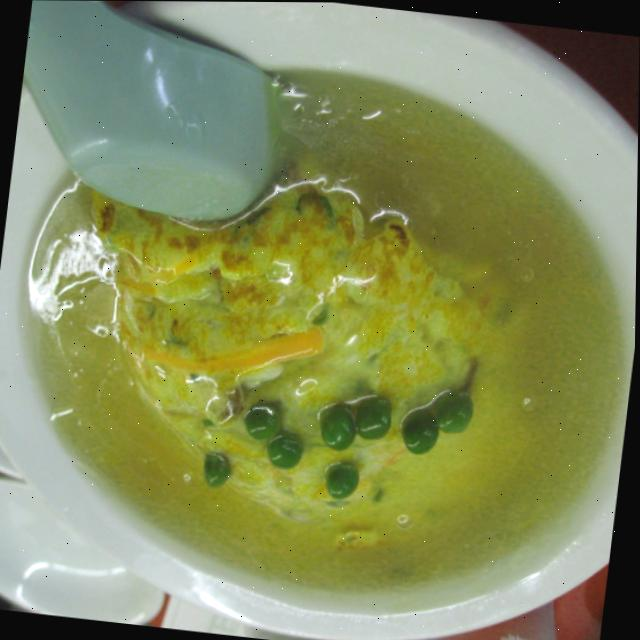面条主食: (0, 39, 640, 622)
